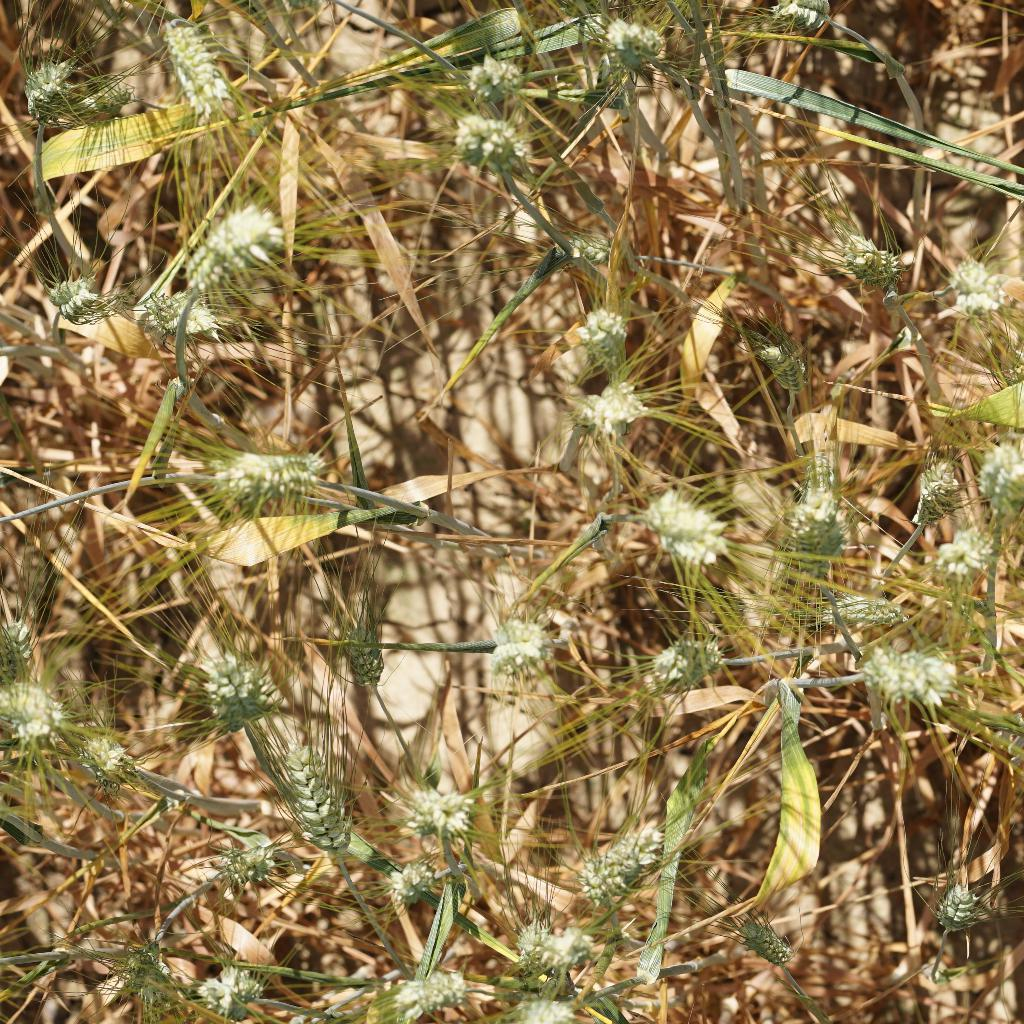0-0: (165, 197, 299, 307), (195, 428, 336, 520), (261, 735, 369, 854), (627, 484, 742, 579), (149, 6, 240, 115), (567, 823, 675, 912), (783, 478, 866, 570), (449, 105, 537, 191), (191, 643, 277, 728), (142, 276, 236, 350), (503, 916, 606, 983), (800, 583, 934, 632), (11, 45, 90, 123), (68, 731, 149, 804), (836, 221, 915, 294), (205, 822, 294, 886), (385, 956, 473, 1020), (935, 251, 1013, 322), (187, 960, 271, 1024), (405, 779, 479, 851), (746, 317, 818, 391), (961, 436, 1024, 520), (575, 372, 651, 441), (557, 213, 635, 280), (647, 634, 727, 699), (107, 945, 178, 1016), (0, 681, 60, 765), (905, 455, 964, 539), (552, 307, 639, 363), (466, 43, 538, 109), (926, 863, 988, 939), (732, 905, 808, 967), (599, 7, 667, 75), (481, 612, 554, 675), (333, 615, 390, 694), (923, 523, 996, 582), (907, 650, 978, 710), (44, 265, 107, 329), (852, 642, 912, 706), (376, 851, 438, 912), (60, 84, 141, 129), (0, 615, 53, 683), (759, 0, 843, 38), (520, 993, 586, 1024)
